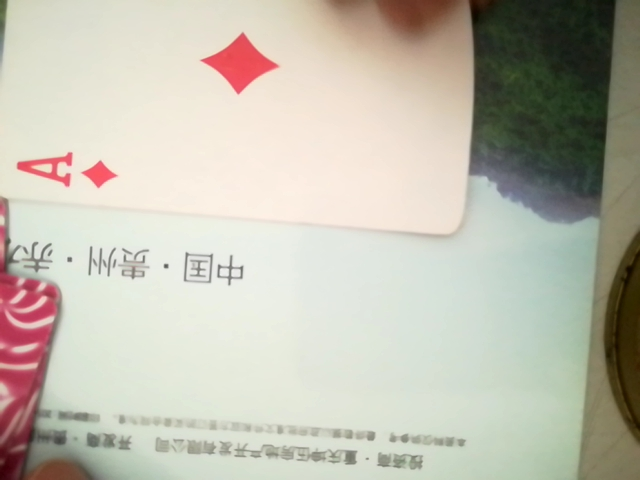fk a: (5, 2, 489, 234)
